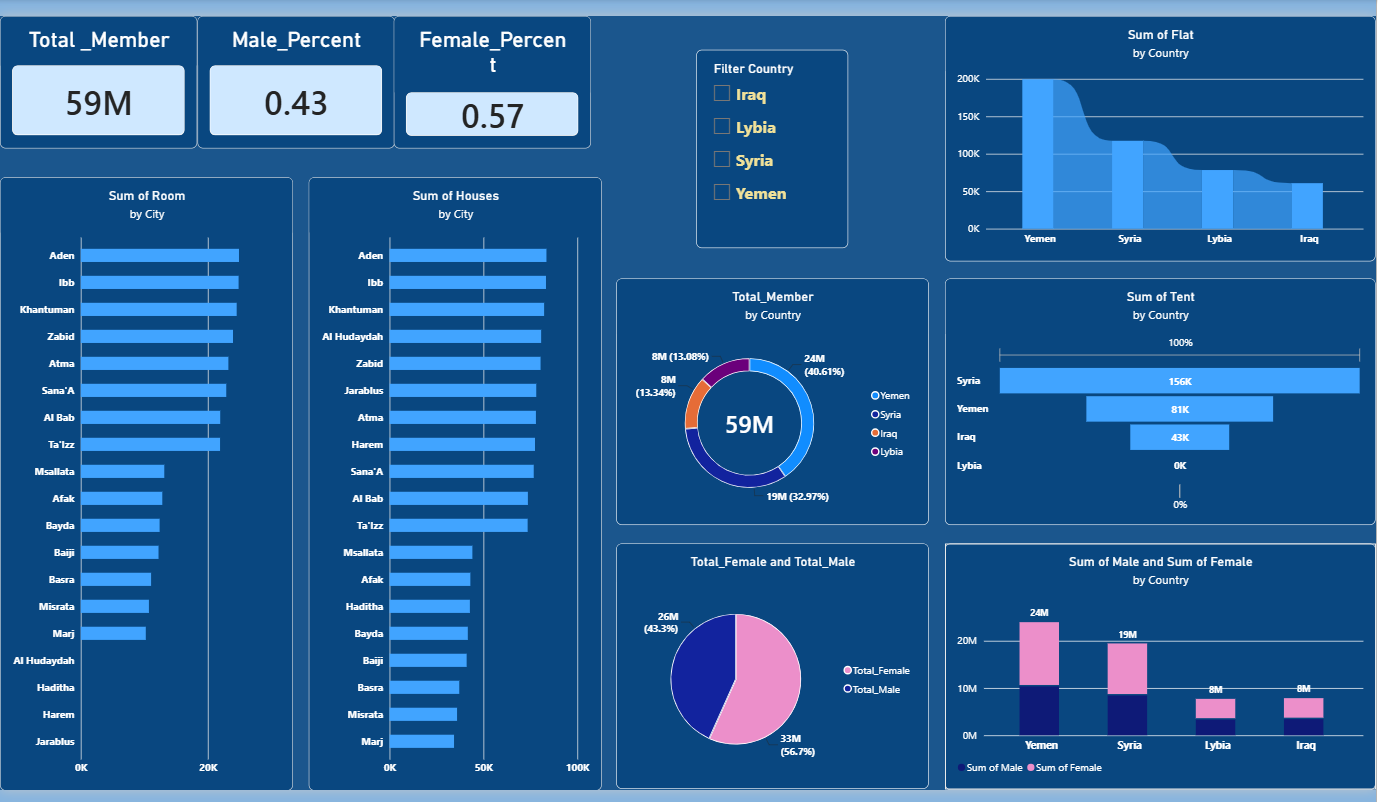

This screenshot's page, from the dashboard's own definition file:
{"tool":"powerbi","page":{"name":"Page 1","canvas":[1920,1080],"ordinal":0},"visuals":[{"type":"cardVisual","title":"Total _Member","fields":{"Data":["population.Total_Member"]},"box":[0,0,275.1,184.6],"z":0},{"type":"cardVisual","title":"Male_Percent","fields":{"Data":["population.Male_Percent"]},"box":[275.1,0,275.1,184.6],"z":1000},{"type":"cardVisual","title":"Female_Percent","fields":{"Data":["population.Female_Percent"]},"box":[550.1,0,275.1,184.6],"z":2000},{"type":"columnChart","fields":{"Category":["population.Country"],"Y":["Sum(population.Male)","Sum(population.Female)"]},"box":[1319.2,736.5,600.8,343.8],"z":3000},{"type":"pieChart","fields":{"Y":["population.Total_Female","population.Total_Male"]},"box":[859.6,736.5,436.1,342],"z":4000},{"type":"clusteredBarChart","fields":{"Category":["population.City"],"Y":["Sum(population.Room)"]},"box":[0,224.4,409,856],"z":5000},{"type":"clusteredBarChart","fields":{"Category":["population.City"],"Y":["Sum(population.Houses)"]},"box":[430.7,224.4,409,856],"z":6000},{"type":"funnel","fields":{"Category":["population.Country"],"Y":["Sum(population.Tent)"]},"box":[1319.2,365.6,600.8,343.8],"z":7000},{"type":"ribbonChart","fields":{"Category":["population.Country"],"Y":["Sum(population.Flat)"]},"box":[1319.2,0,600.8,342],"z":8000},{"type":"donutChart","fields":{"Category":["population.Country"],"Y":["population.Total_Member"]},"box":[859.6,365.6,436.1,343.8],"z":9000},{"type":"slicer","title":"Filter Country","fields":{"Values":["Country.Country"]},"box":[971.8,47.1,211.7,276.9],"z":10000}]}

Visuals, with their boxes on the page's 1920x1080 design canvas (x1, y1, x2, y2). These are canvas units, not pixel positions in the 1378x802 screenshot, which may show the page scaled, cropped or inside an application window:
"Total _Member" cardVisual: locate(0, 0, 275, 185)
"Male_Percent" cardVisual: locate(275, 0, 550, 185)
"Female_Percent" cardVisual: locate(550, 0, 825, 185)
columnChart - population.Country x Sum(population.Male): locate(1319, 736, 1920, 1080)
pieChart - population.Total_Female x population.Total_Male: locate(860, 736, 1296, 1078)
clusteredBarChart - population.City x Sum(population.Room): locate(0, 224, 409, 1080)
clusteredBarChart - population.City x Sum(population.Houses): locate(431, 224, 840, 1080)
funnel - population.Country x Sum(population.Tent): locate(1319, 366, 1920, 709)
ribbonChart - population.Country x Sum(population.Flat): locate(1319, 0, 1920, 342)
donutChart - population.Country x population.Total_Member: locate(860, 366, 1296, 709)
"Filter Country" slicer: locate(972, 47, 1184, 324)
